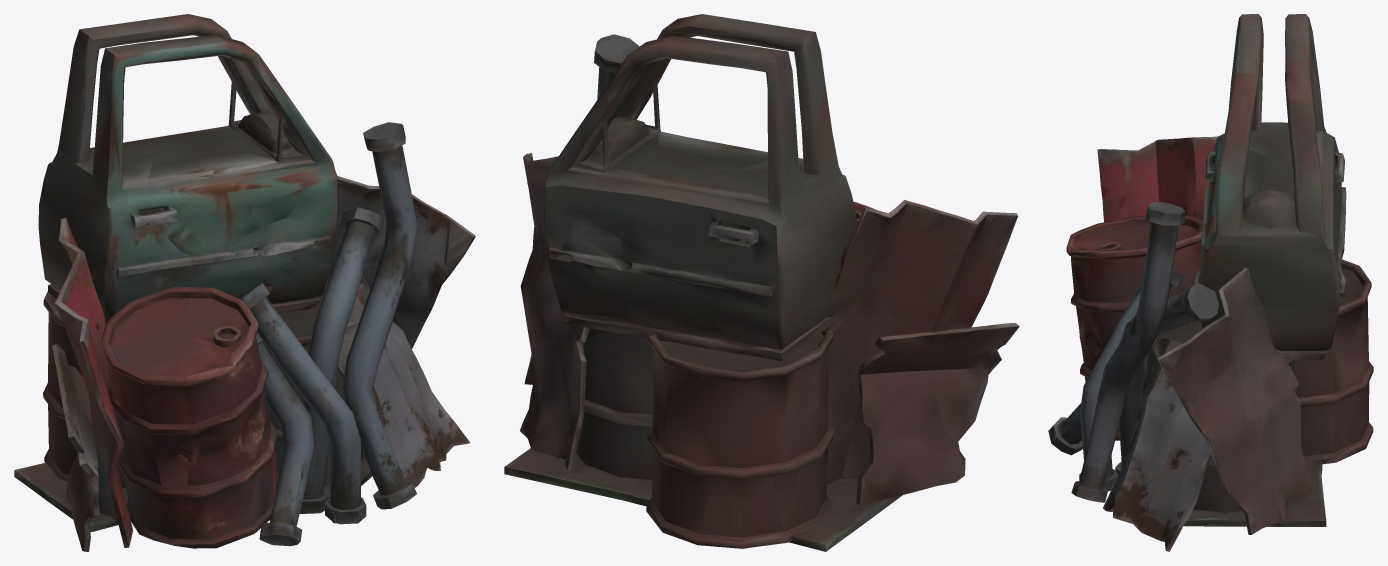
Rendered from isle_scrap_b_idle.glb.
3 views of the same model, side by side, from view 1: azimuth 30°, elevation 25°; view 2: azimuth 150°, elevation 25°; view 3: azimuth 270°, elevation 25° (orthographic). The views are drawn at different scales.
Visible parts, largest first — view 1: tripo_node_18c69d73-9940-47f5-bc34-abf31e7c71c4; view 2: tripo_node_18c69d73-9940-47f5-bc34-abf31e7c71c4; view 3: tripo_node_18c69d73-9940-47f5-bc34-abf31e7c71c4.
Part boxes in pixels (bbox=[...]): tripo_node_18c69d73-9940-47f5-bc34-abf31e7c71c4: bbox=[14, 14, 475, 551]; tripo_node_18c69d73-9940-47f5-bc34-abf31e7c71c4: bbox=[504, 14, 1019, 551]; tripo_node_18c69d73-9940-47f5-bc34-abf31e7c71c4: bbox=[1048, 14, 1373, 551].
Size of the model in its own units: 2.4 by 2.34 by 1.7.
1 material, 1 textured.
